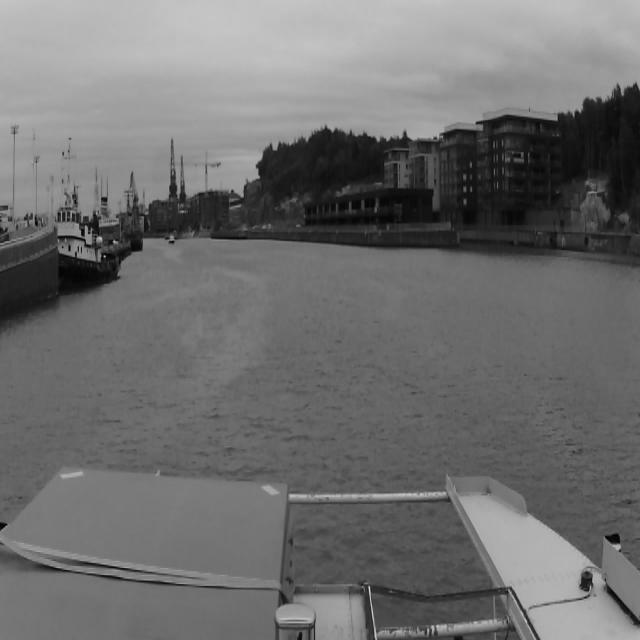ship: (57, 134, 121, 292), (7, 195, 59, 321)
